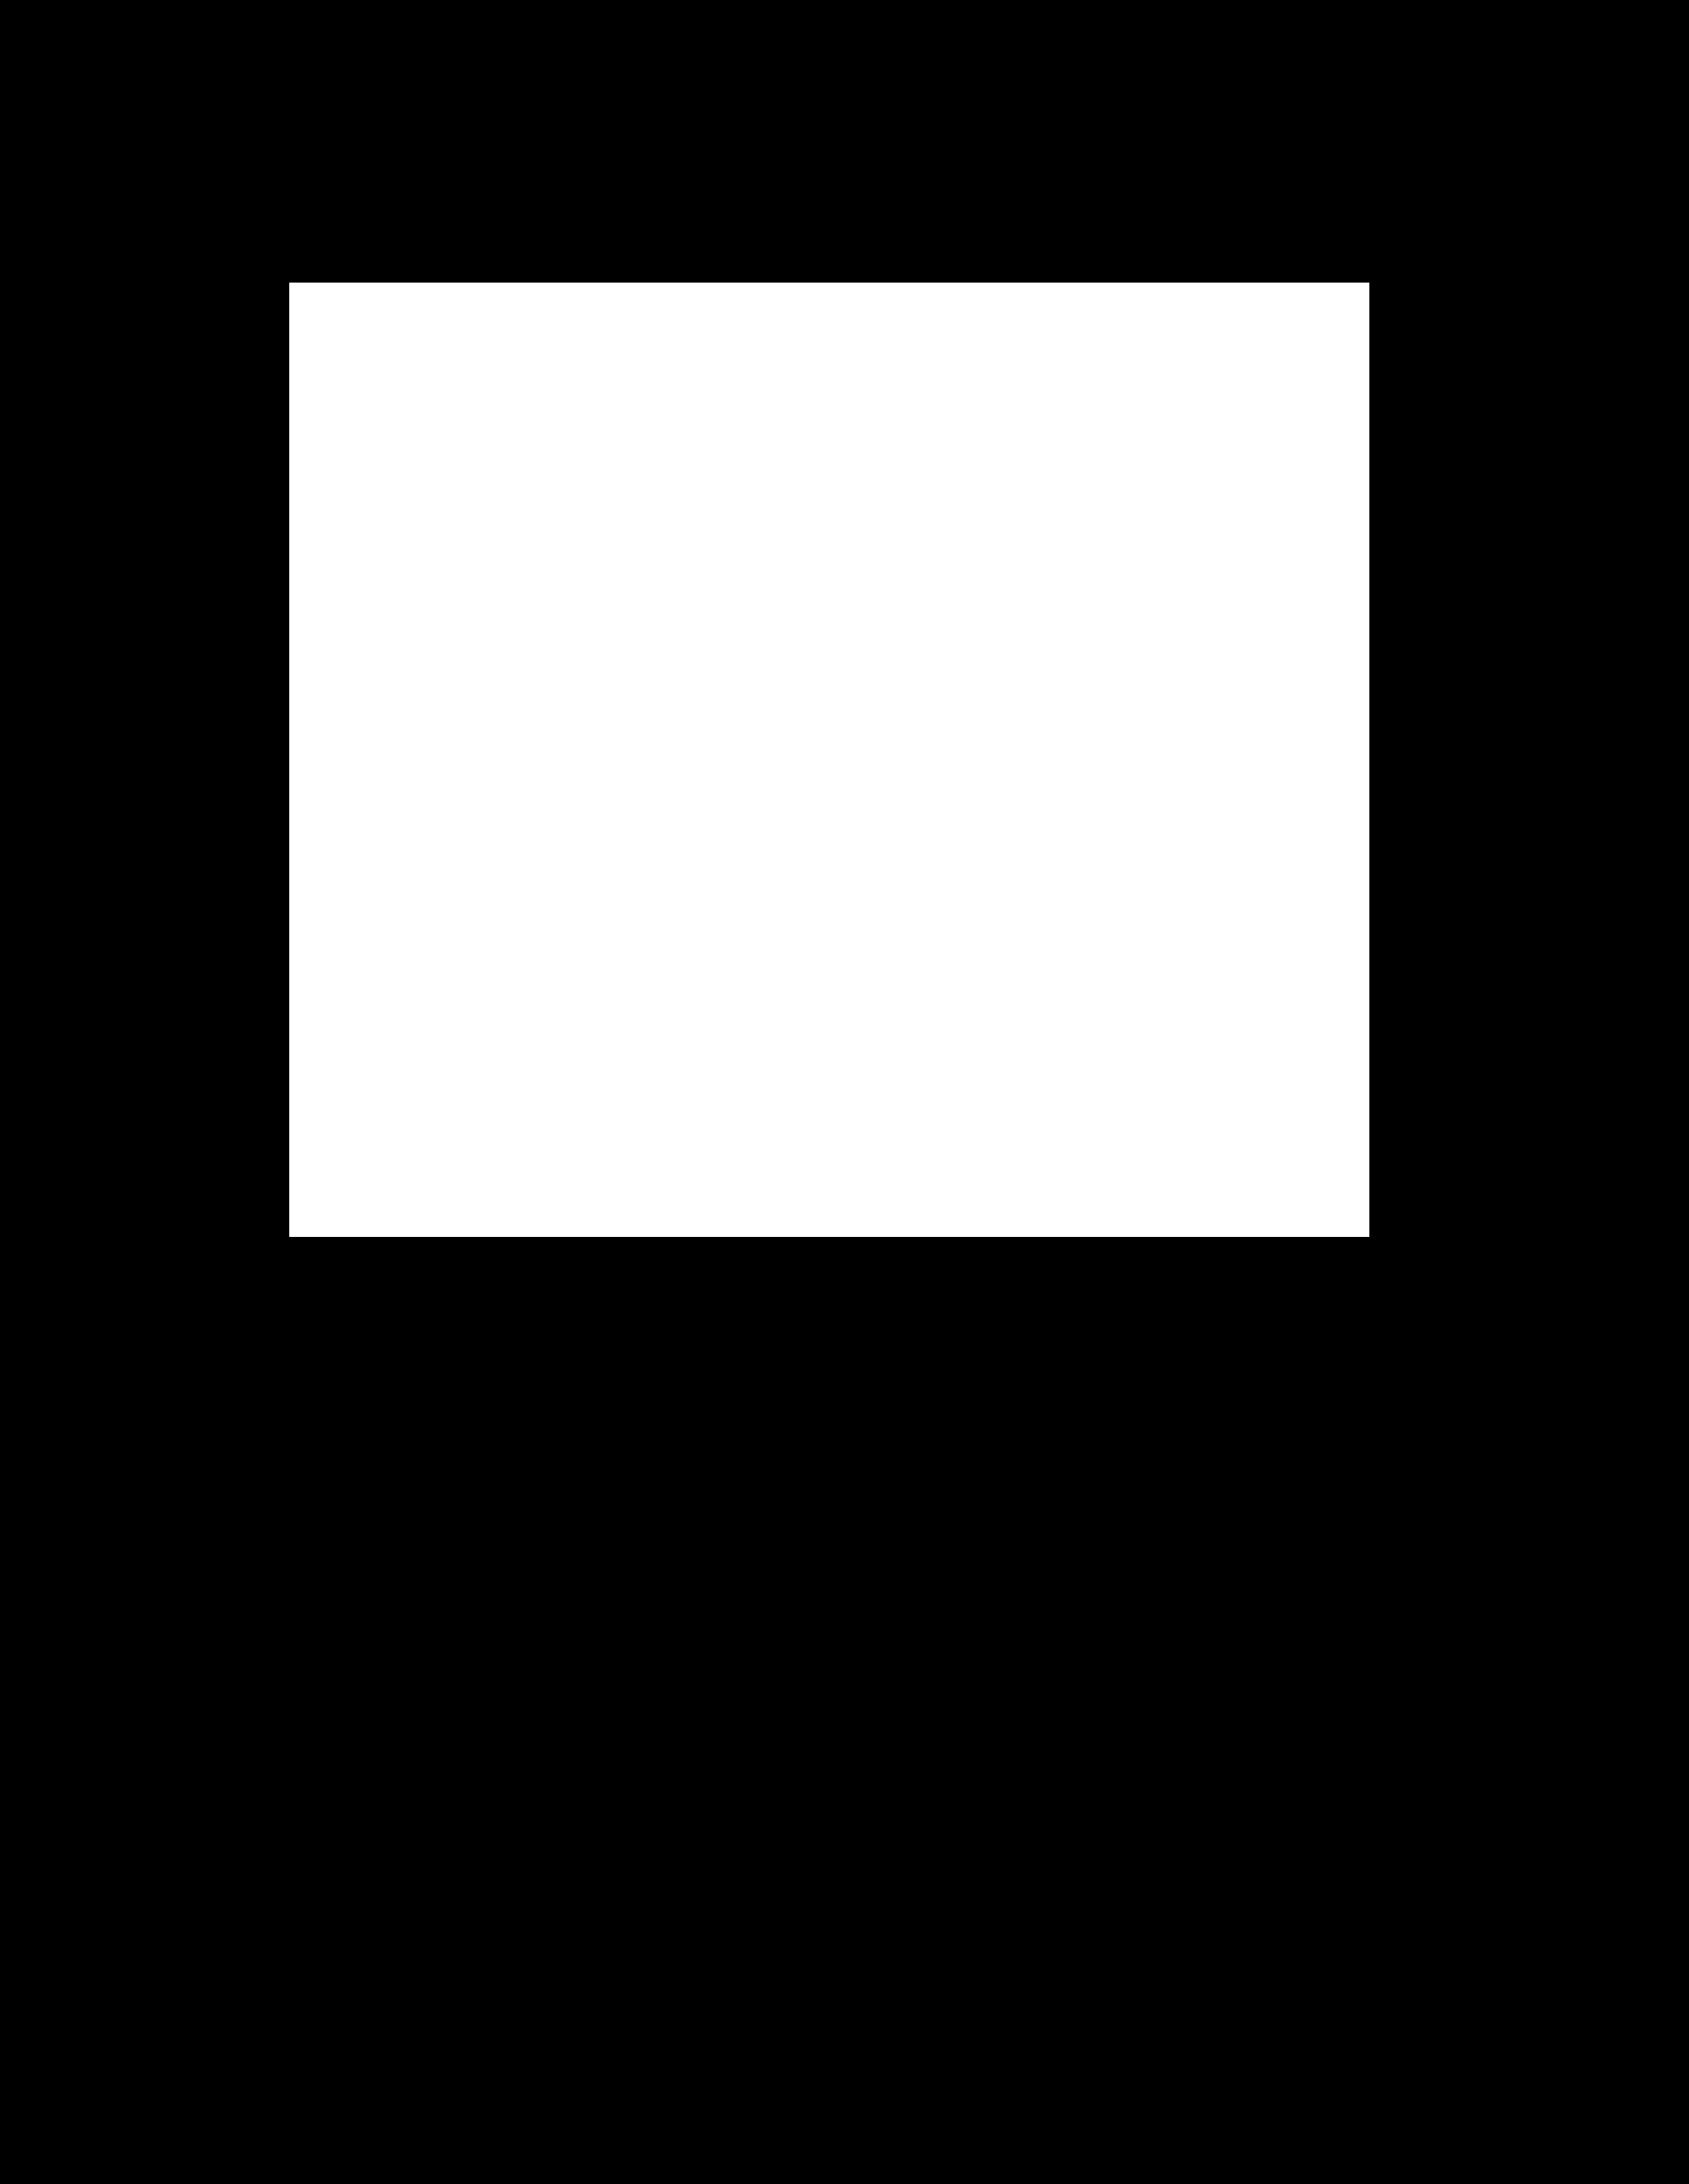table: (289, 282, 1368, 1236)
